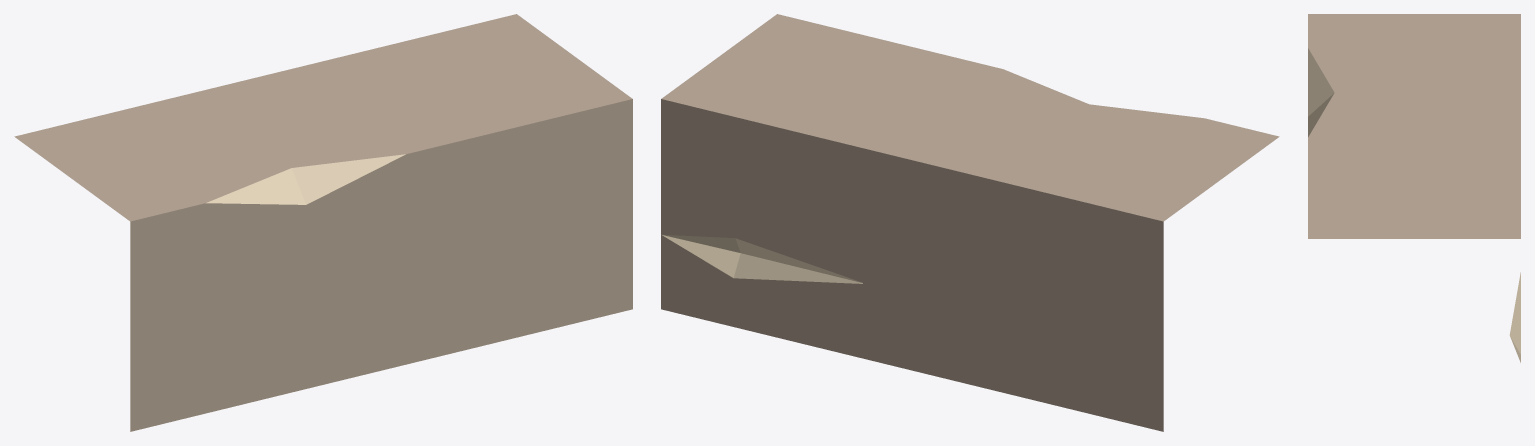
Rendered from Cave_Prop_Support_Ceiling_Beam_3.glb.
3 views of the same model, side by side, from view 1: azimuth 30°, elevation 25°; view 2: azimuth 150°, elevation 25°; view 3: azimuth 270°, elevation 25° (orthographic). The views are drawn at different scales.
Visible parts, largest first — view 1: Cave_Prop_Support_Ceiling_Beam_3; view 2: Cave_Prop_Support_Ceiling_Beam_3; view 3: Cave_Prop_Support_Ceiling_Beam_3.
Part boxes in pixels (x1,y1,x2,y2): Cave_Prop_Support_Ceiling_Beam_3: (14, 14, 632, 431); Cave_Prop_Support_Ceiling_Beam_3: (661, 14, 1279, 431); Cave_Prop_Support_Ceiling_Beam_3: (1308, 14, 1520, 362).
Size of the model in its own units: 1 by 0.4 by 0.4.
